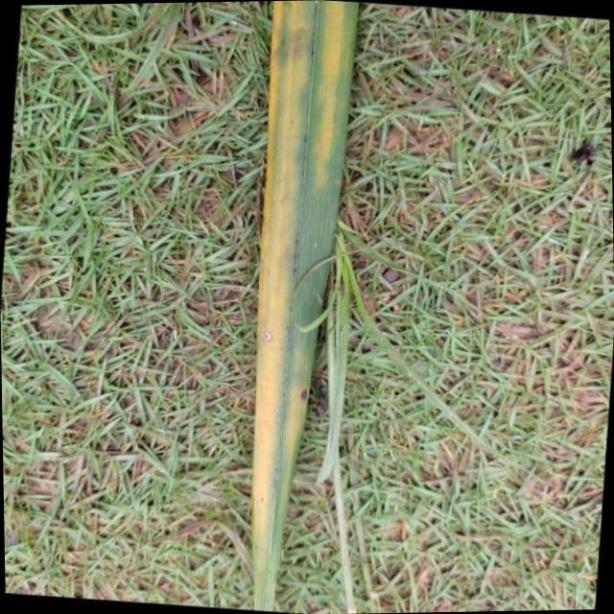Megnesium: (249, 0, 363, 614)
